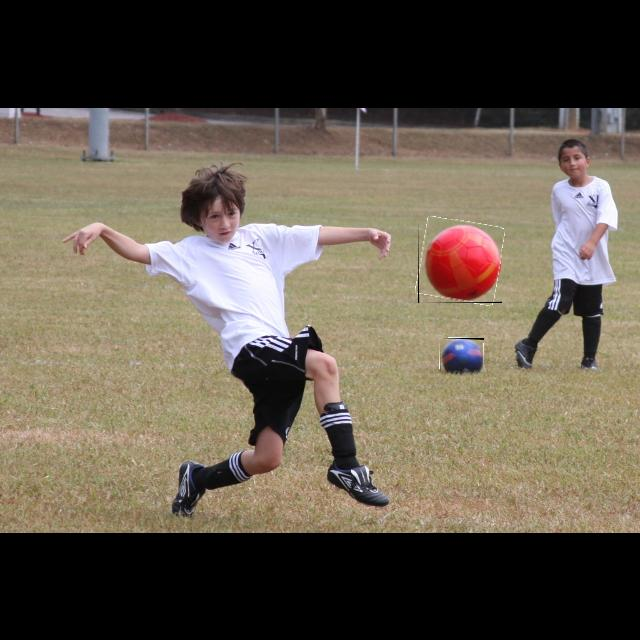Football: (418, 219, 502, 303), (440, 338, 484, 372)
